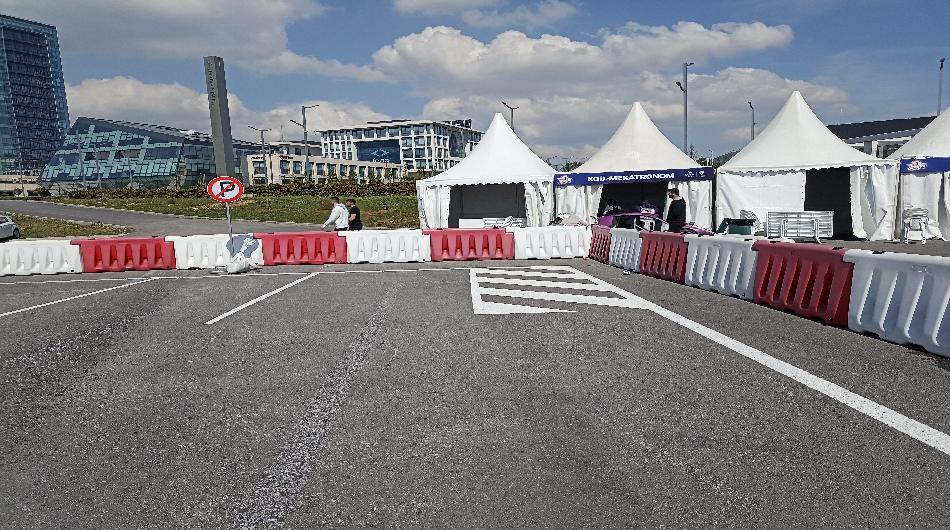park_yapilmaz_3: (208, 177, 243, 202)
park_yapilmaz_yerde: (470, 263, 652, 311)
